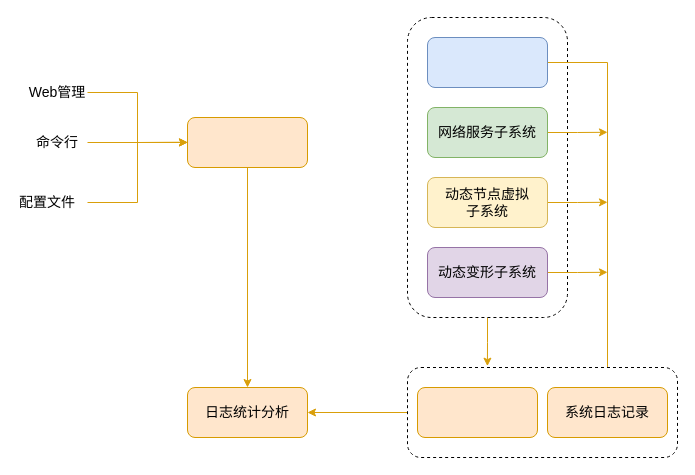
This 695x475 diagram has some shape labels left out. The shapes that lost their labels are listed below. From the top down, each one's box as (x1, y1, x2, y2) in pixels, then its label:
(426, 36, 548, 88): 流量处理 子系统
(186, 116, 308, 168): 网络拟态配置
(416, 386, 538, 438): 网络状态检测
